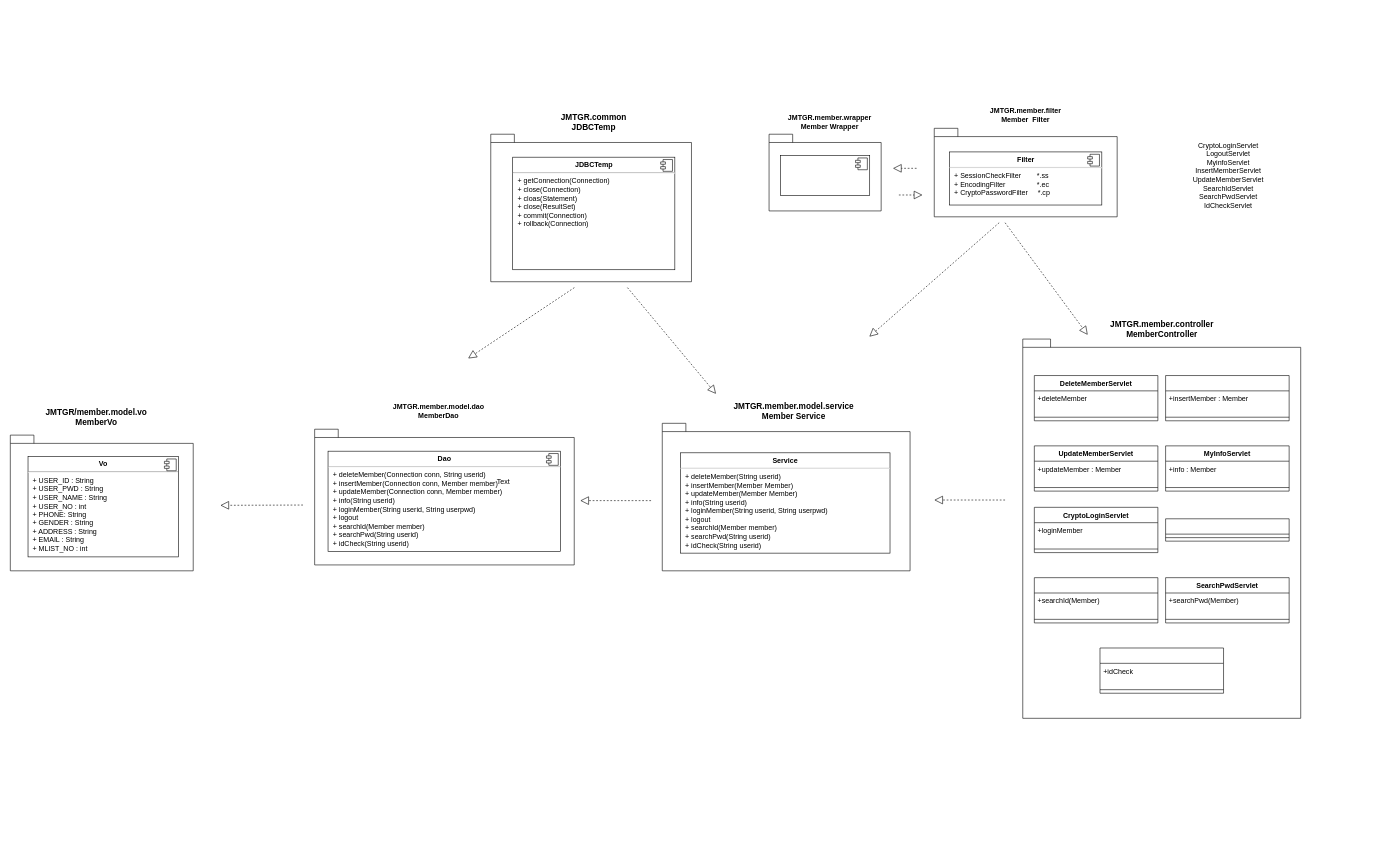
Some shapes in this 1382 by 862 pixel diagram are drawn without their labels. Each missing label, with the box of its shape:
IdCheckServlet: (1099, 647, 1224, 693)
InsertMemberServlet: (1165, 375, 1289, 421)
LogoutServlet: (1165, 518, 1289, 541)
SearchIdServlet: (1034, 577, 1158, 623)
Wrapper + getParameter: String + getSha512: String: (780, 155, 870, 195)
